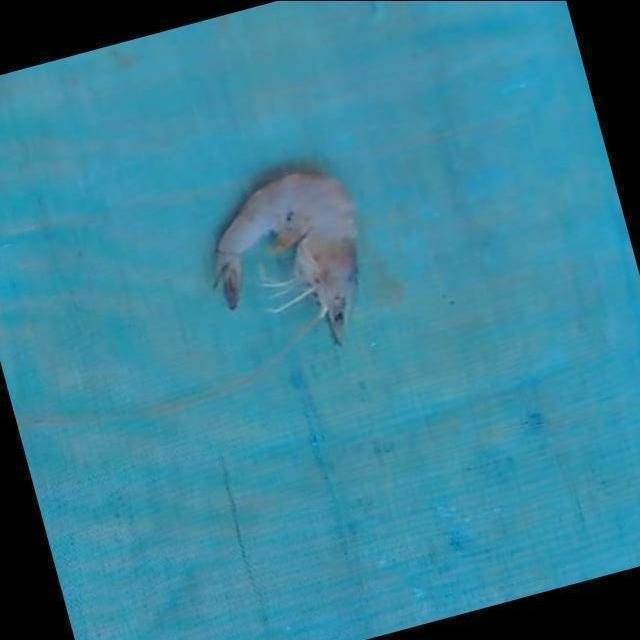shrimp: (215, 174, 356, 342)
